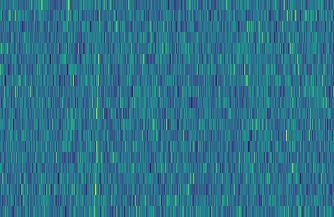signal: (87, 0, 102, 217)
